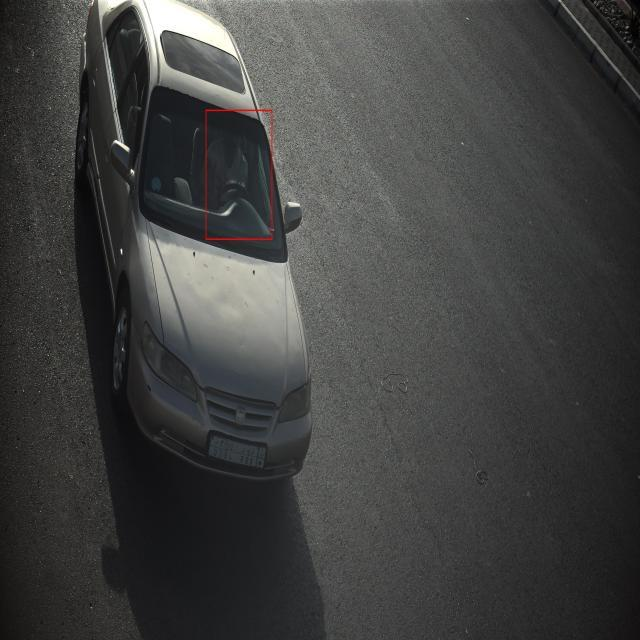windshield: (132, 80, 290, 263)
